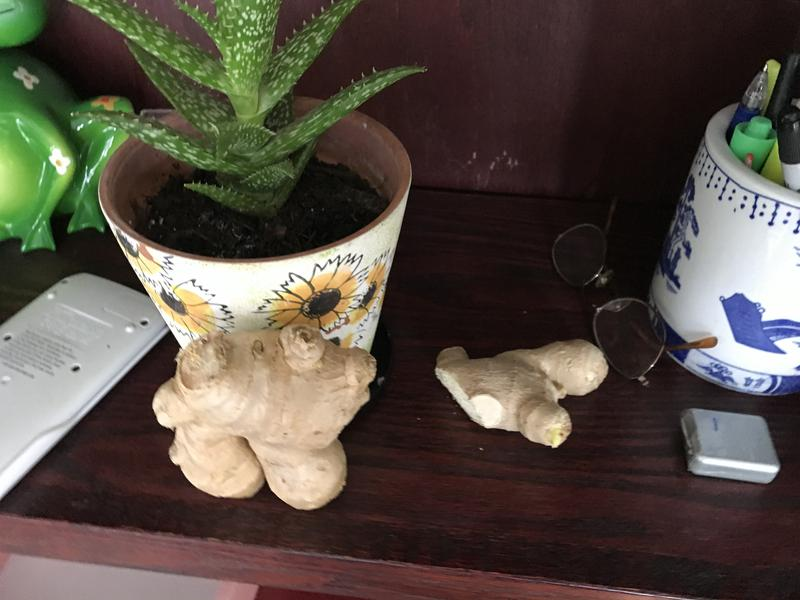ginger: (143, 313, 388, 521), (429, 330, 614, 456)
